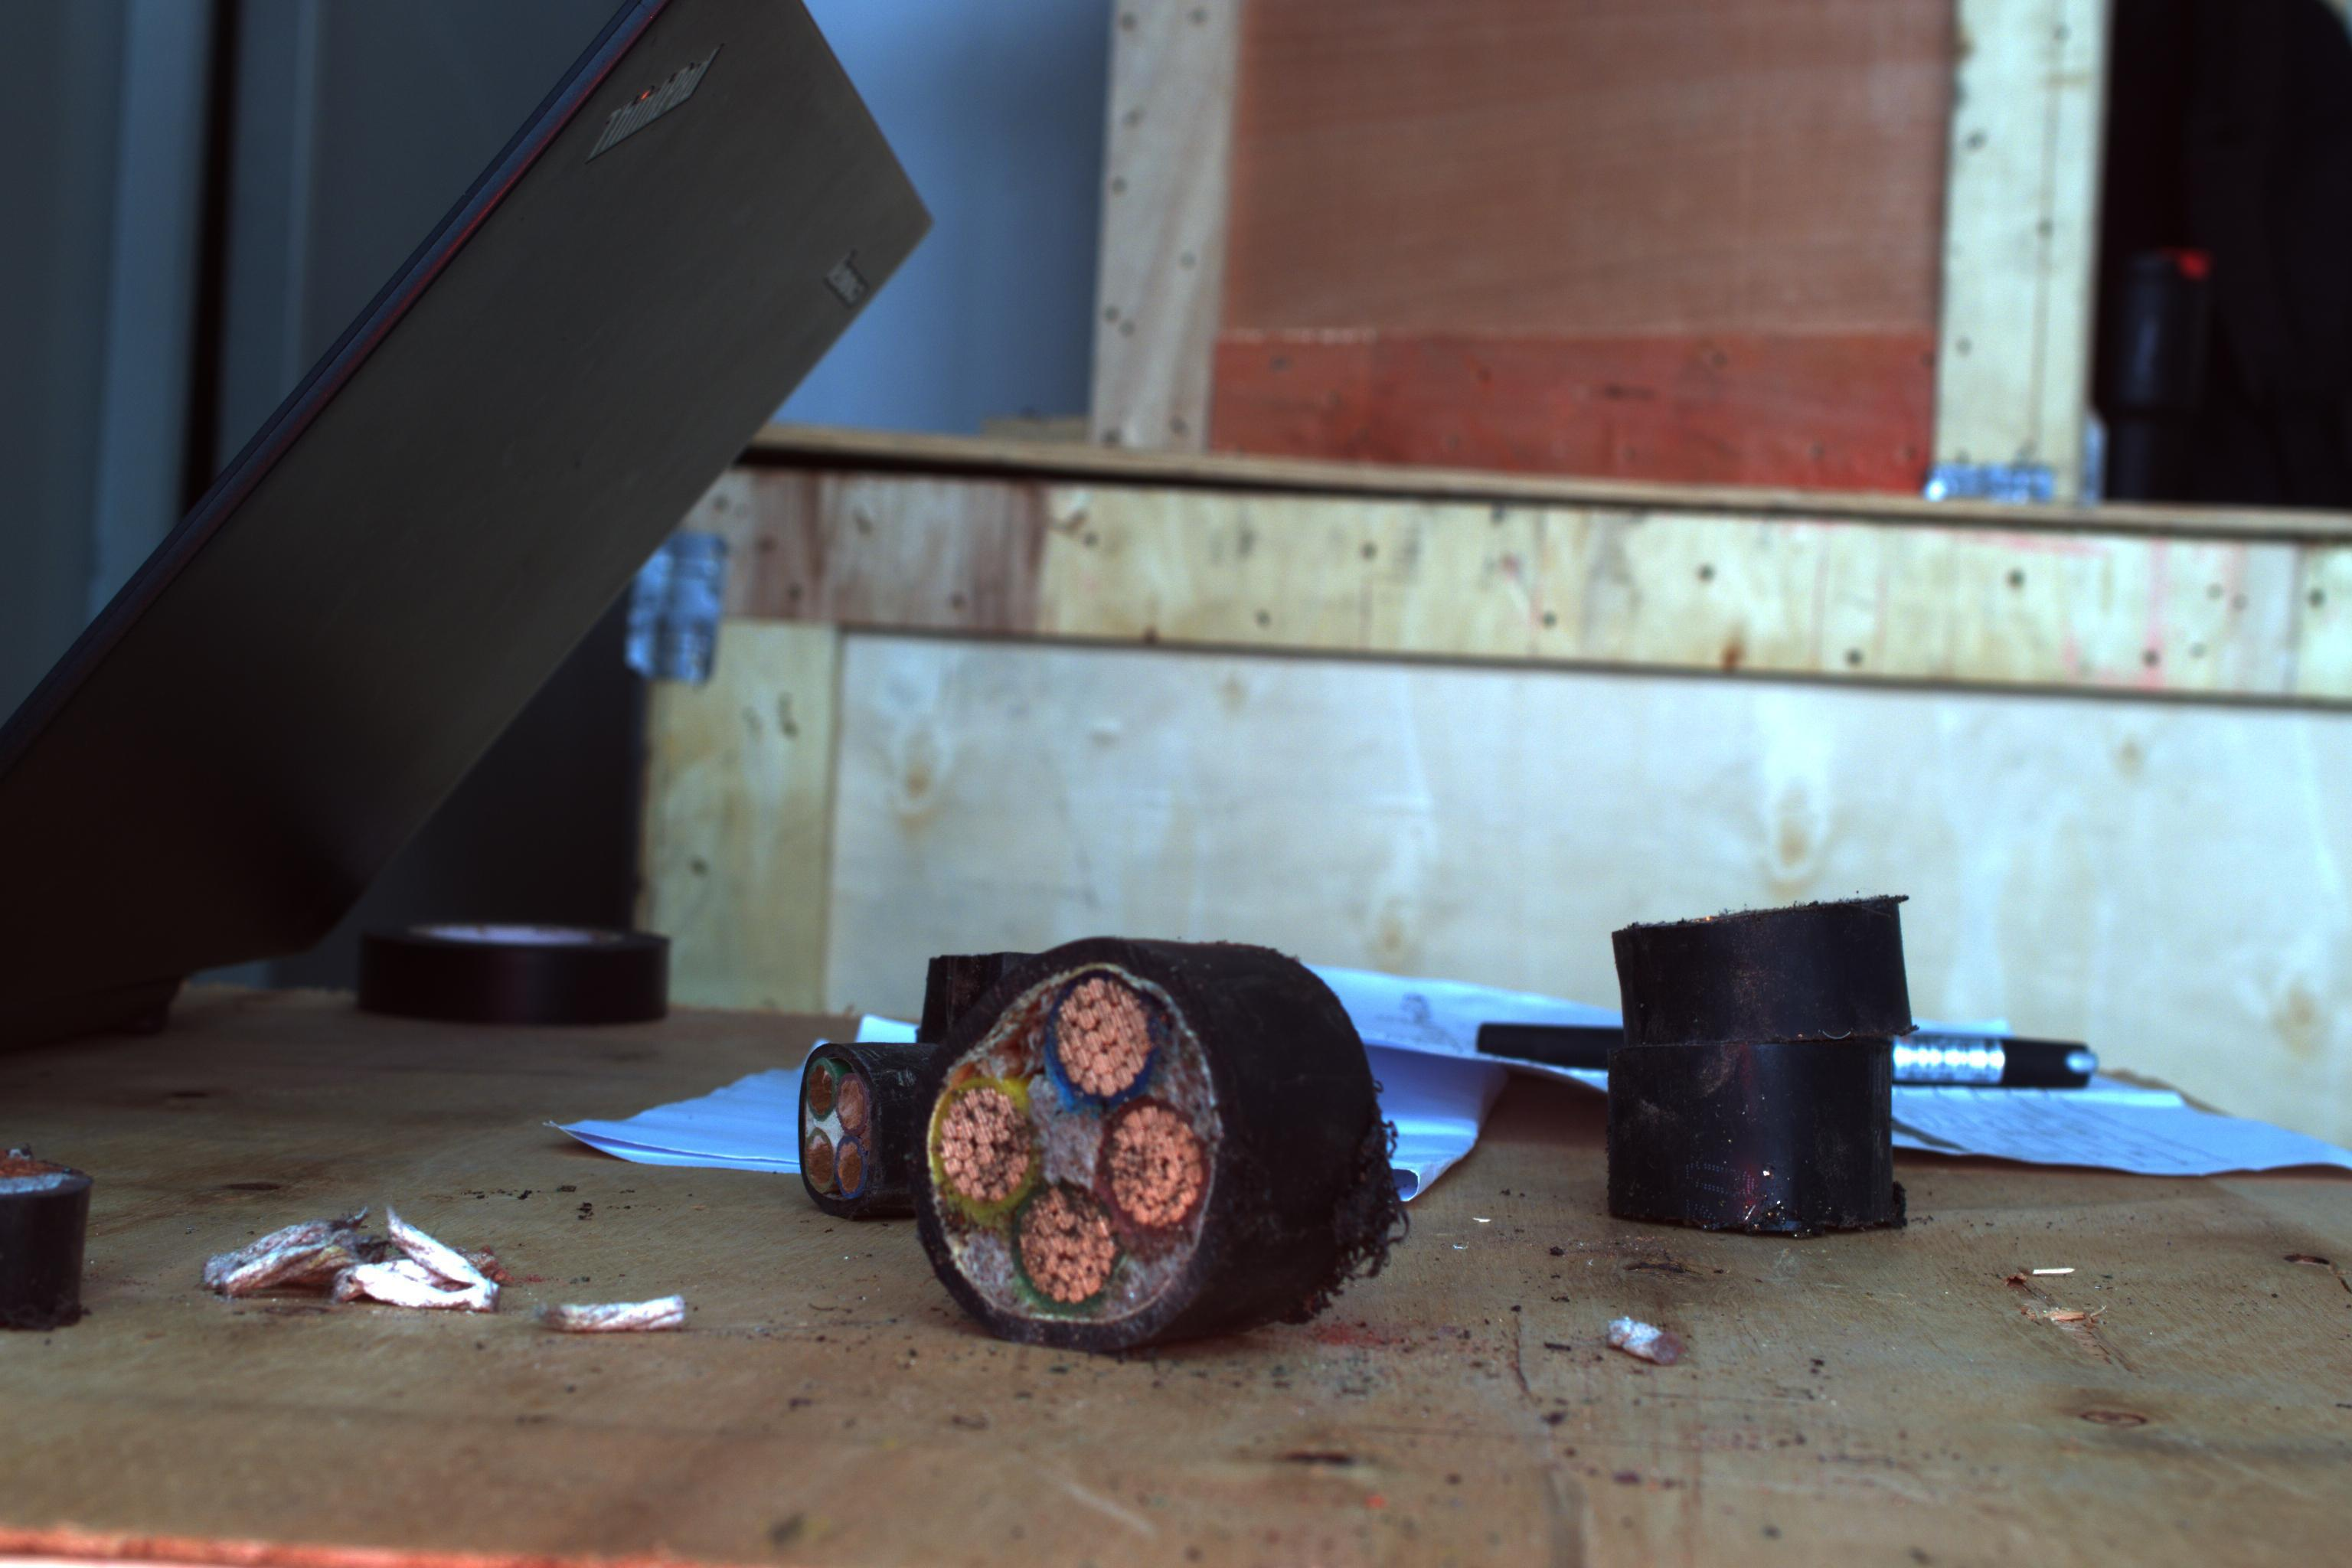YJV_0.6_1kV_4x120: (903, 938, 1223, 1318)
